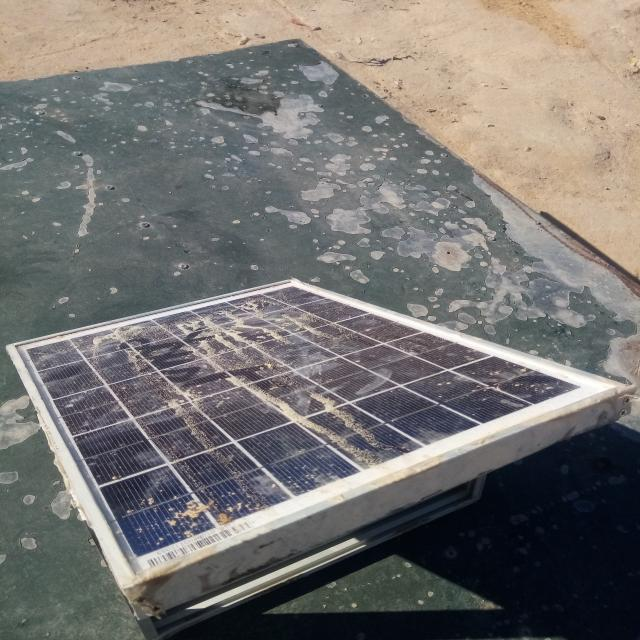faulty: (6, 278, 626, 586)
